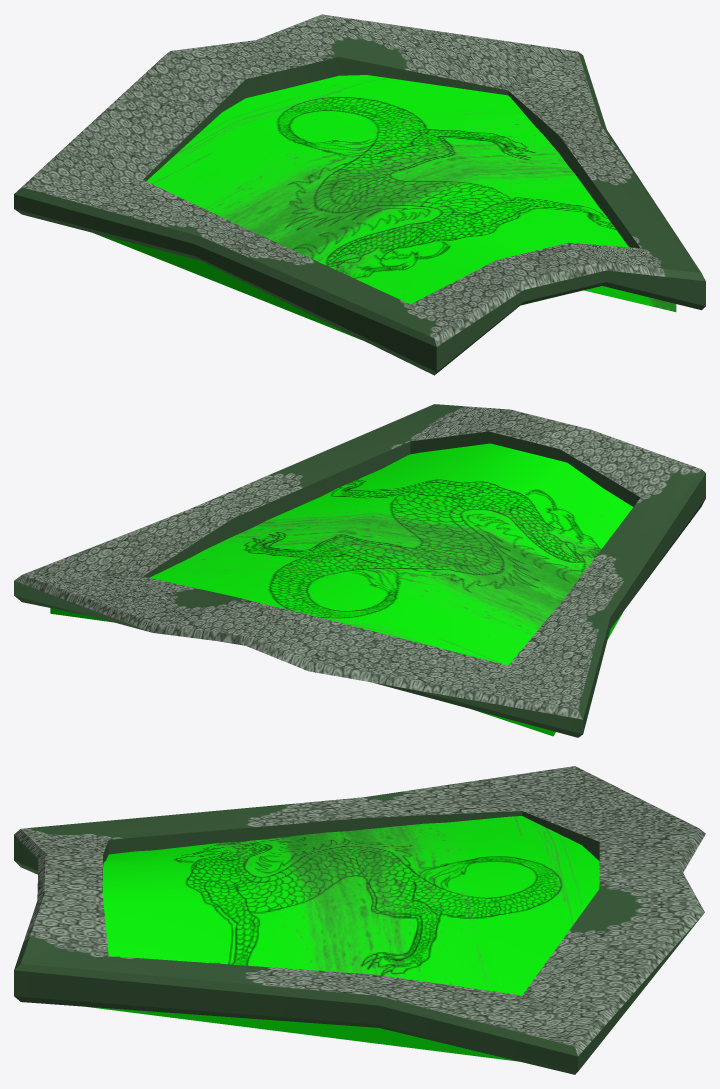
The model's file is Shield 3.fbx.
3 views of the same model, one above another, from view 1: azimuth 30°, elevation 25°; view 2: azimuth 150°, elevation 25°; view 3: azimuth 270°, elevation 25° (orthographic). The views are drawn at different scales.
Visible parts, largest first — view 1: transform1; view 2: transform1; view 3: transform1.
Boxes of the visible parts, x1,y1,x2,y2 form: transform1: (14, 14, 705, 375); transform1: (14, 404, 705, 737); transform1: (14, 766, 705, 1074).
Bounding box in the file's own units: 156 × 19.74 × 159.
